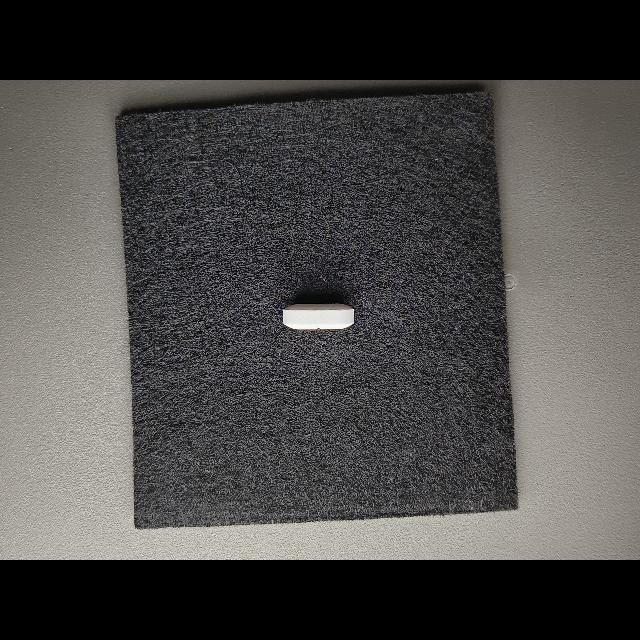Intact Pill: (283, 303, 354, 330)
